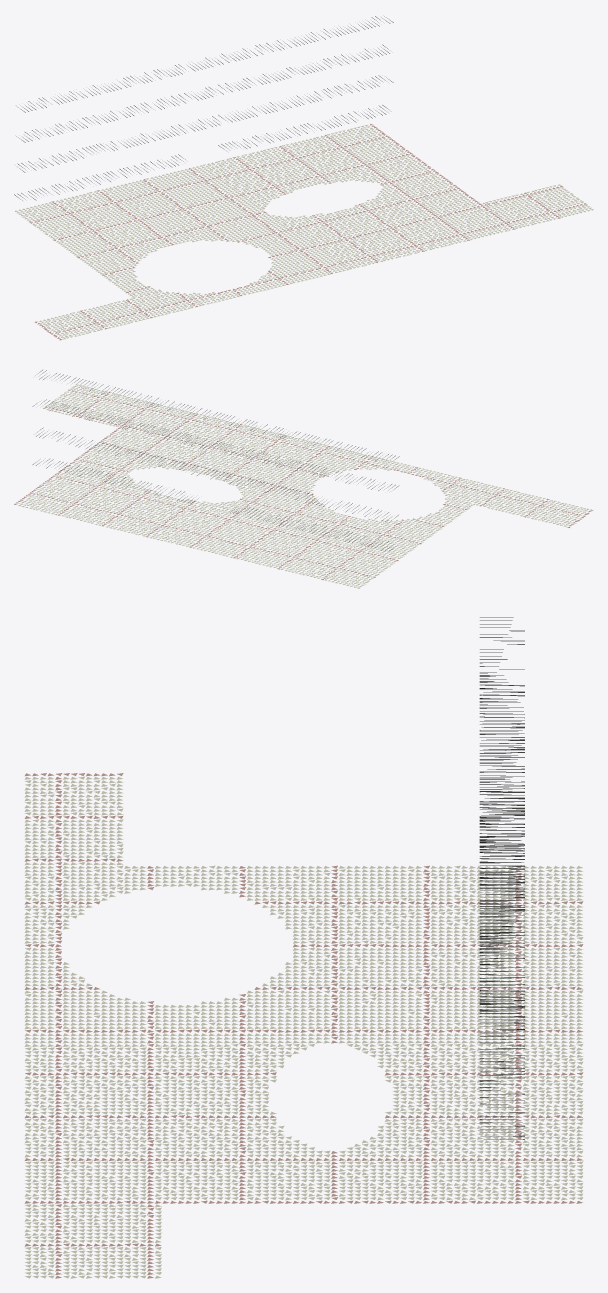
The model's file is teaching3-surface-far.glb.
3 renders of one model, top to bottom at view 1: azimuth 30°, elevation 25°; view 2: azimuth 150°, elevation 25°; view 3: azimuth 270°, elevation 25°, orthographic. The views are drawn at different scales.
Parts seen in each view (by area): view 1: grid paving.001, grid paving, gallery ceiling grid; view 2: grid paving.001, grid paving, gallery ceiling grid; view 3: grid paving.001, grid paving, gallery ceiling grid.
Part boxes in pixels (x1,y1,x2,y2): grid paving.001: (15,125,593,339); grid paving: (29,124,586,340); gallery ceiling grid: (14,16,393,200); grid paving.001: (18,384,589,588); grid paving: (14,389,593,579); gallery ceiling grid: (32,370,399,551); grid paving.001: (24,776,583,1278); grid paving: (24,773,583,1278); gallery ceiling grid: (479,617,524,1139).
Size of the model in its own units: 62.45 by 13.54 by 29.18.
